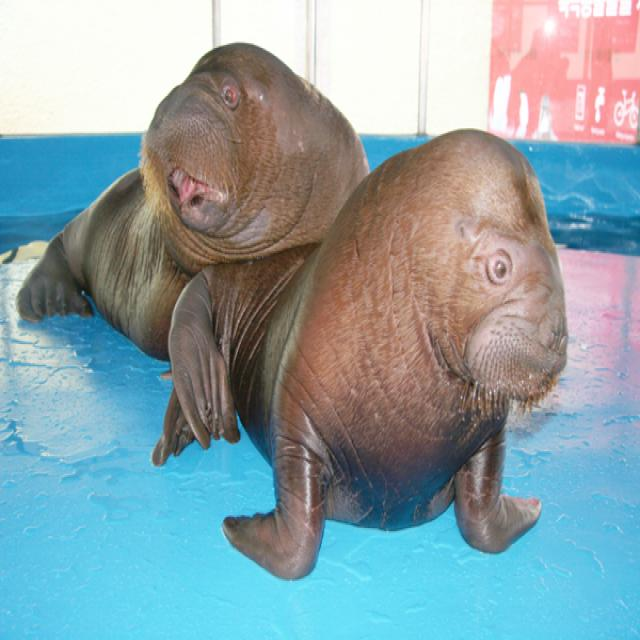walrus: (280, 126, 612, 615), (114, 5, 348, 385)
